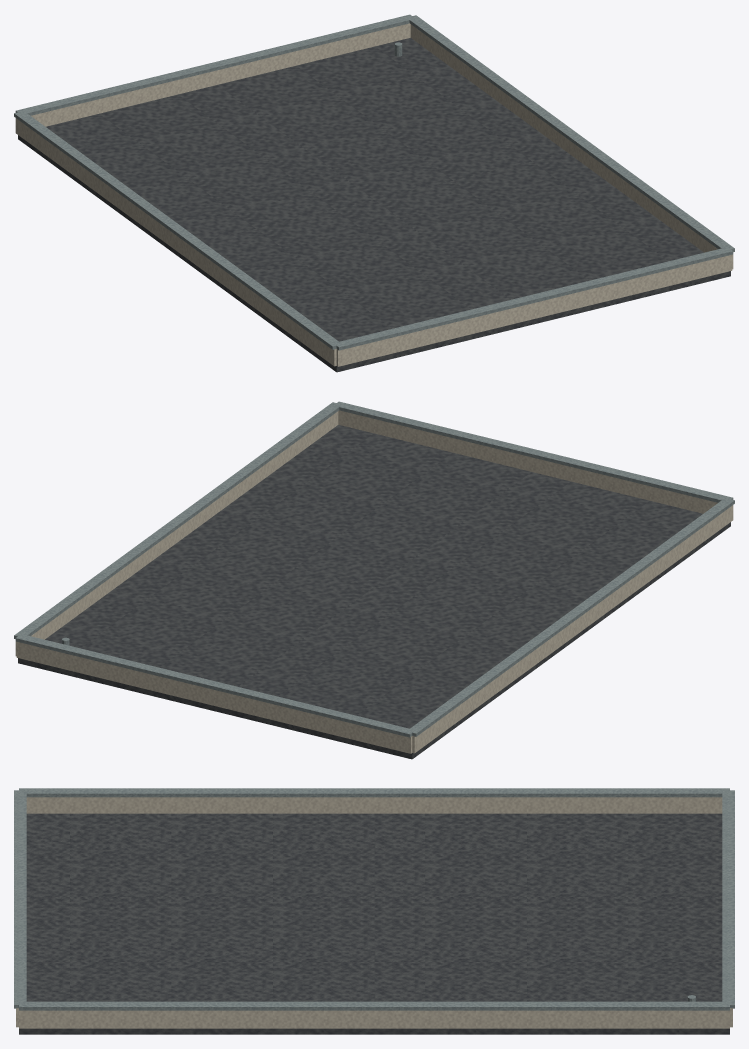
The model's file is PZ_Northline_RoofModules_Prefab.glb.
3 views of the same model, one above another, from view 1: azimuth 30°, elevation 25°; view 2: azimuth 150°, elevation 25°; view 3: azimuth 270°, elevation 25° (orthographic). The views are drawn at different scales.
Visible parts, largest first — view 1: ROOF__Flat_Roof_Section_03, ROOF__Flat_Roof_Section_02, ROOF__Flat_Roof_Section_01, ROOF__Flat_Roof_Section_00, ROOF__Parapet_Masonry_0, ROOF__Parapet_Masonry_1, ROOF__Parapet_Masonry_2, ROOF__Parapet_Masonry_3, ROOF__Parapet_Metal_Coping_2, ROOF__Parapet_Metal_Coping_3, ROOF__Parapet_Metal_Coping_0, ROOF__Parapet_Metal_Coping_1; view 2: ROOF__Flat_Roof_Section_01, ROOF__Flat_Roof_Section_00, ROOF__Flat_Roof_Section_03, ROOF__Flat_Roof_Section_02, ROOF__Parapet_Masonry_1, ROOF__Parapet_Masonry_0, ROOF__Parapet_Masonry_2, ROOF__Parapet_Masonry_3, ROOF__Parapet_Metal_Coping_2, ROOF__Parapet_Metal_Coping_3, ROOF__Parapet_Metal_Coping_1, ROOF__Parapet_Metal_Coping_0; view 3: ROOF__Flat_Roof_Section_00, ROOF__Flat_Roof_Section_02, ROOF__Flat_Roof_Section_01, ROOF__Flat_Roof_Section_03, ROOF__Parapet_Masonry_3, ROOF__Parapet_Masonry_2, ROOF__Parapet_Metal_Coping_3, ROOF__Parapet_Metal_Coping_2, ROOF__Parapet_Metal_Coping_1, ROOF__Parapet_Metal_Coping_0.
Boxes of the visible parts, left/top/right/bottom form: ROOF__Flat_Roof_Section_03: left=218, top=38, right=567, bottom=199; ROOF__Flat_Roof_Section_02: left=18, top=85, right=373, bottom=255; ROOF__Flat_Roof_Section_01: left=375, top=152, right=730, bottom=324; ROOF__Flat_Roof_Section_00: left=177, top=200, right=533, bottom=372; ROOF__Parapet_Masonry_0: left=336, top=255, right=732, bottom=366; ROOF__Parapet_Masonry_1: left=31, top=23, right=410, bottom=126; ROOF__Parapet_Masonry_2: left=15, top=118, right=336, bottom=366; ROOF__Parapet_Masonry_3: left=410, top=24, right=733, bottom=269; ROOF__Parapet_Metal_Coping_2: left=14, top=111, right=341, bottom=349; ROOF__Parapet_Metal_Coping_3: left=408, top=15, right=734, bottom=251; ROOF__Parapet_Metal_Coping_0: left=333, top=247, right=733, bottom=350; ROOF__Parapet_Metal_Coping_1: left=15, top=14, right=414, bottom=115; ROOF__Flat_Roof_Section_01: left=181, top=425, right=530, bottom=586; ROOF__Flat_Roof_Section_00: left=375, top=472, right=730, bottom=642; ROOF__Flat_Roof_Section_03: left=18, top=539, right=373, bottom=711; ROOF__Flat_Roof_Section_02: left=215, top=587, right=571, bottom=759; ROOF__Parapet_Masonry_1: left=16, top=642, right=412, bottom=753; ROOF__Parapet_Masonry_0: left=338, top=410, right=717, bottom=513; ROOF__Parapet_Masonry_2: left=412, top=505, right=733, bottom=753; ROOF__Parapet_Masonry_3: left=15, top=411, right=338, bottom=656; ROOF__Parapet_Metal_Coping_2: left=407, top=498, right=734, bottom=736; ROOF__Parapet_Metal_Coping_3: left=14, top=402, right=340, bottom=638; ROOF__Parapet_Metal_Coping_1: left=15, top=634, right=415, bottom=737; ROOF__Parapet_Metal_Coping_0: left=333, top=401, right=733, bottom=502; ROOF__Flat_Roof_Section_00: left=26, top=813, right=374, bottom=918; ROOF__Flat_Roof_Section_02: left=374, top=813, right=722, bottom=918; ROOF__Flat_Roof_Section_01: left=19, top=918, right=374, bottom=1034; ROOF__Flat_Roof_Section_03: left=374, top=918, right=729, bottom=1034; ROOF__Parapet_Masonry_3: left=19, top=1010, right=729, bottom=1028; ROOF__Parapet_Masonry_2: left=26, top=797, right=722, bottom=813; ROOF__Parapet_Metal_Coping_3: left=19, top=1001, right=729, bottom=1010; ROOF__Parapet_Metal_Coping_2: left=19, top=788, right=729, bottom=797; ROOF__Parapet_Metal_Coping_1: left=722, top=790, right=734, bottom=1008; ROOF__Parapet_Metal_Coping_0: left=14, top=790, right=26, bottom=1008.
Size of the model in its own units: 10.2 by 0.65 by 14.2.
Materials: 3 (3 with a texture image).
